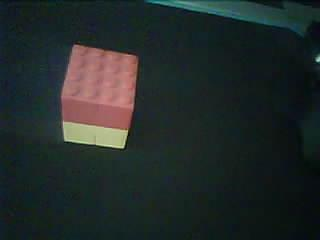lego: (61, 43, 139, 150)
